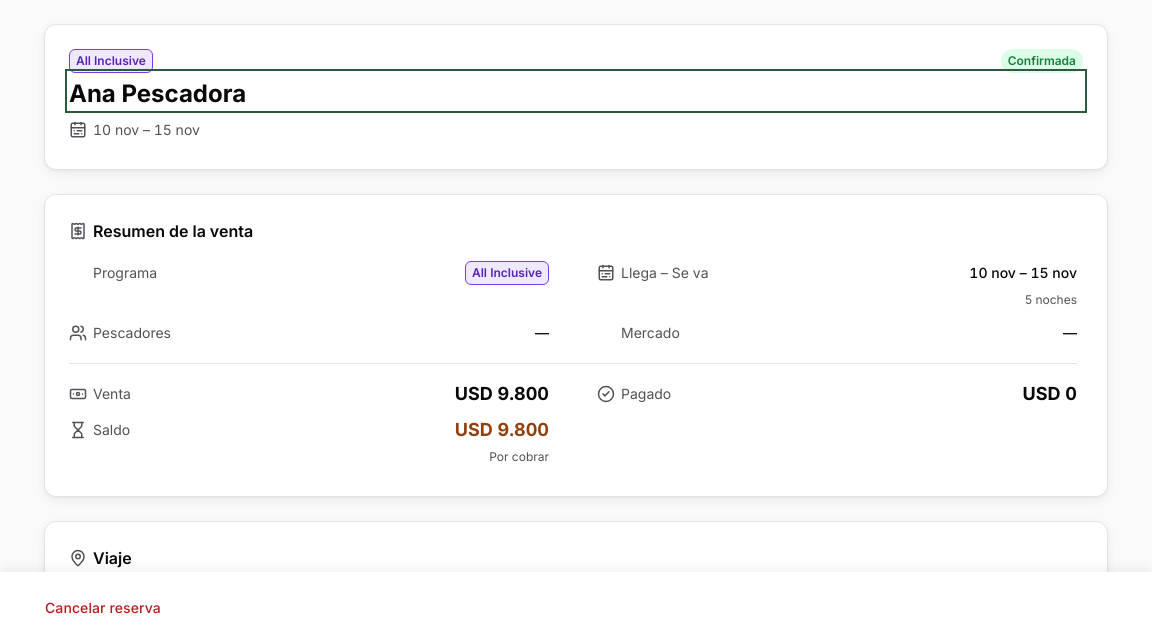
Test case: Ficha del pescador: cancelar › «Volver sin cambios» y Escape cierran sin cancelar y devuelven el foco
The width and height of the screenshot is (1152, 644).
Step 1. Click the button "Cancelar reserva" → (103, 608), box [32, 584, 174, 632]
(page scrolled)
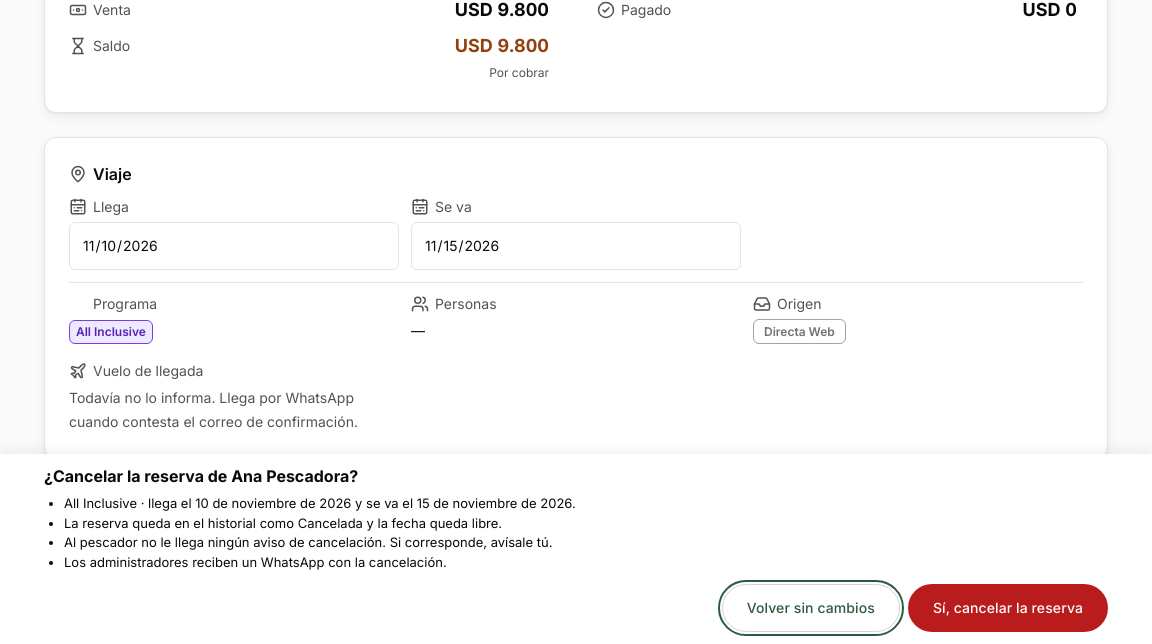
Step 2. Click the button "Volver sin cambios" → (811, 608), box [722, 584, 900, 632]
(page scrolled)
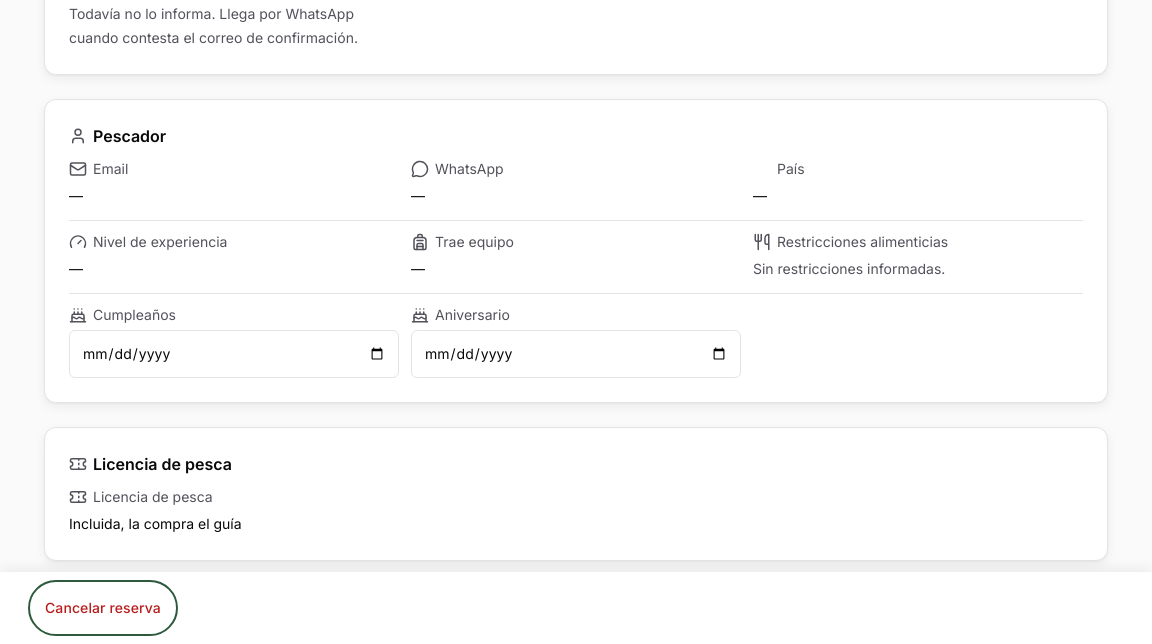
Expected: the dialog is gone
Step 3. Click the button "Cancelar reserva" → (103, 608), box [32, 584, 174, 632]
(page scrolled)
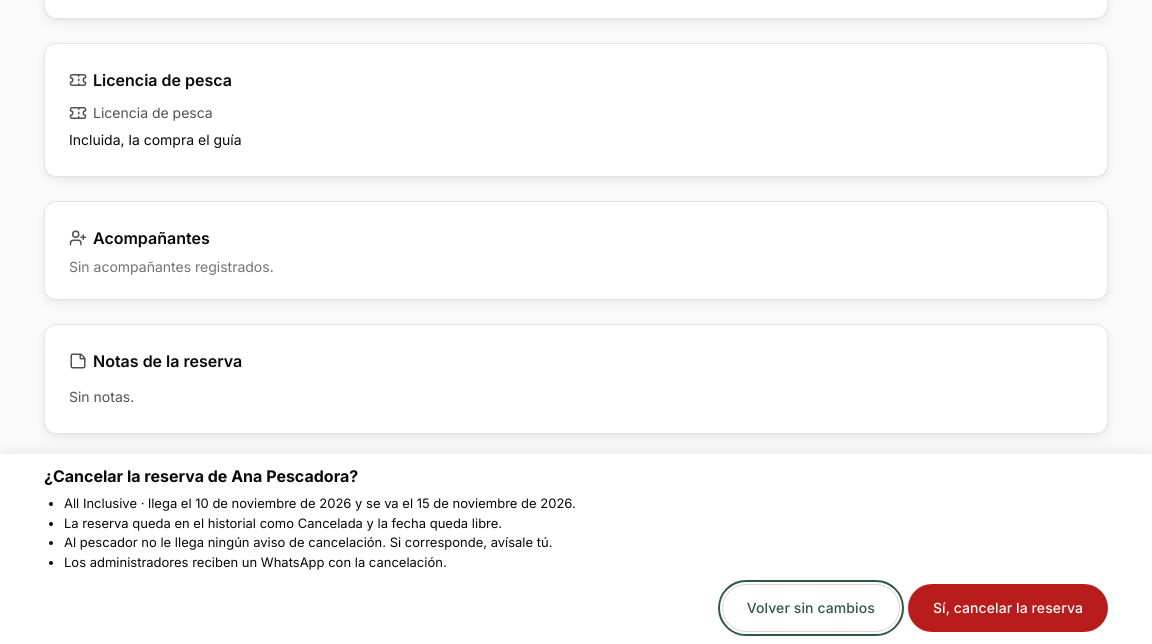
Step 4. Press Escape in the dialog, box [44, 466, 1108, 632]
(page scrolled)
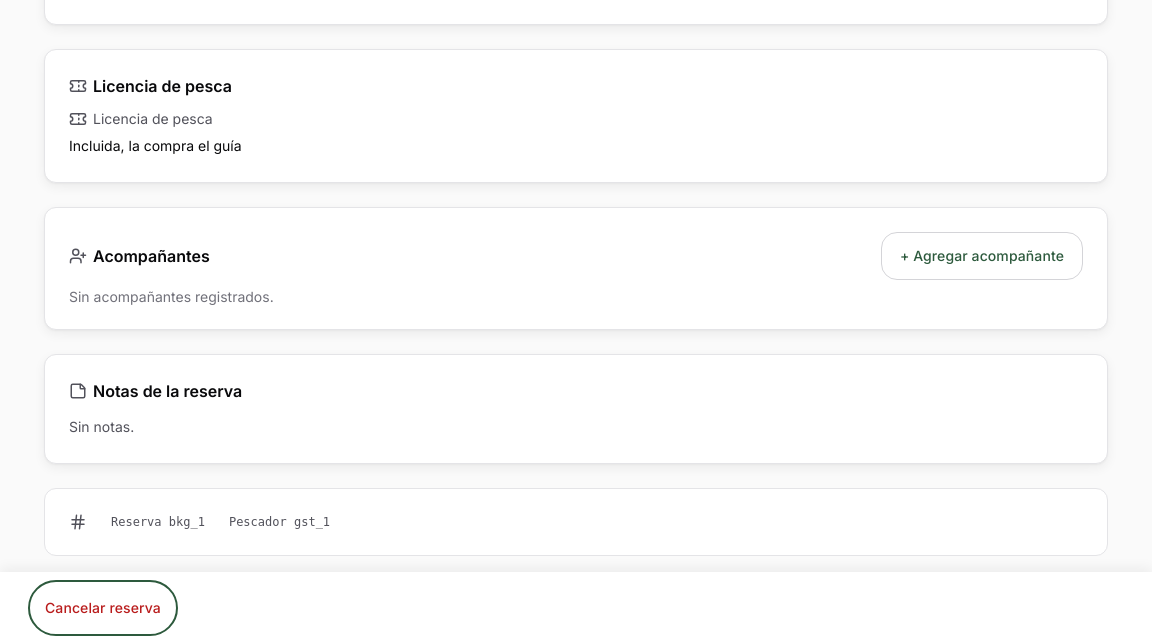
Expected: the dialog is gone
